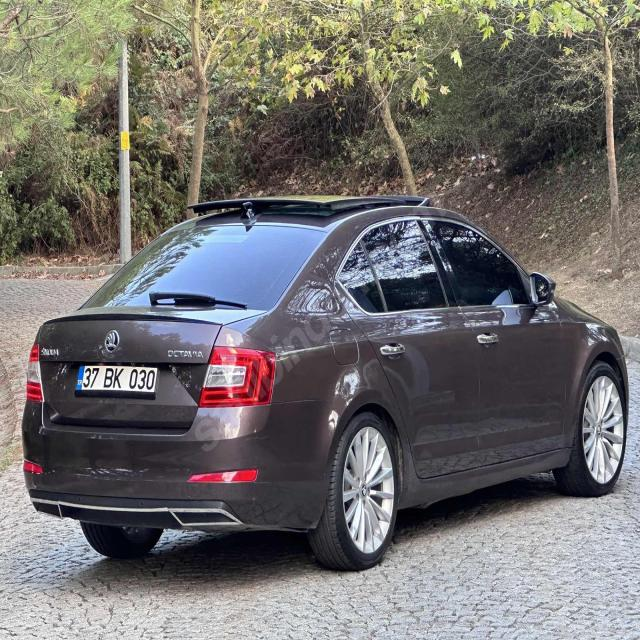skoda: (102, 327, 121, 352)
